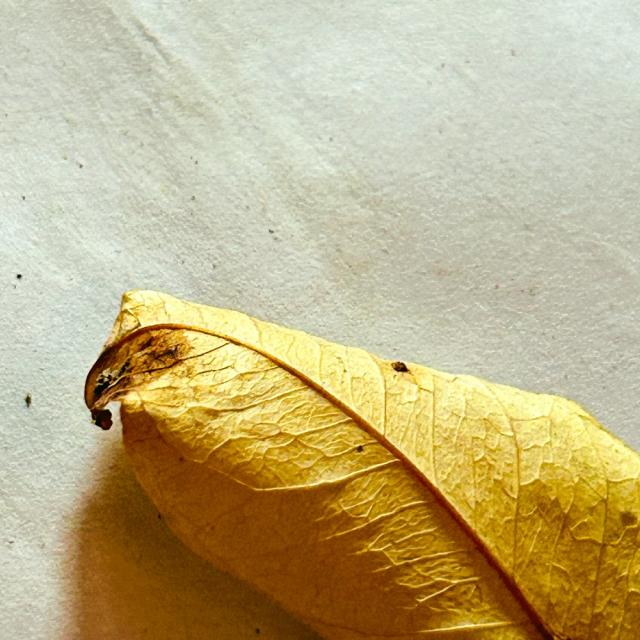DryLeaf_Lemon: (84, 291, 639, 639)
